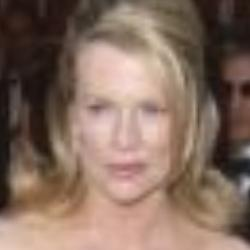face: (27, 9, 233, 230)
